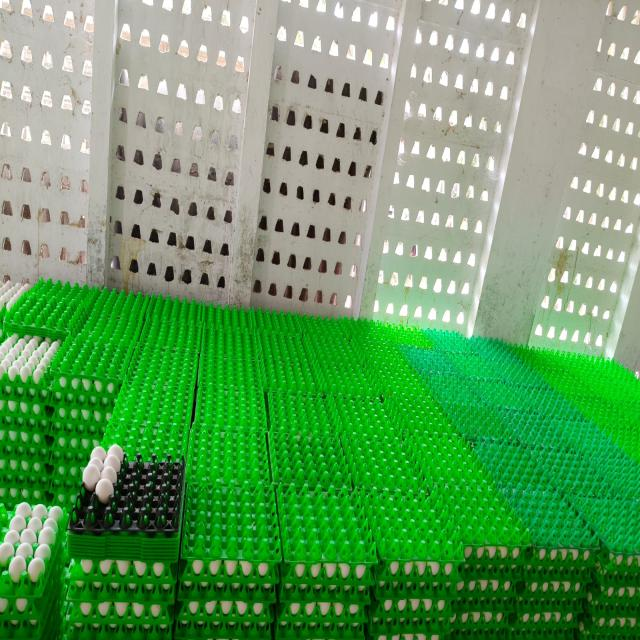egg_tray: (108, 0, 254, 300), (2, 0, 93, 282), (365, 490, 521, 626), (458, 490, 598, 628), (275, 485, 376, 637), (176, 484, 281, 626), (363, 490, 462, 637), (414, 438, 528, 564), (435, 481, 530, 628), (517, 347, 640, 459), (69, 445, 184, 561), (438, 374, 612, 448), (468, 442, 589, 548), (181, 483, 281, 594), (52, 289, 148, 404), (362, 489, 462, 597), (276, 485, 376, 588), (474, 381, 615, 451), (0, 334, 58, 503), (476, 438, 635, 499), (506, 473, 600, 576), (453, 389, 607, 449), (78, 445, 183, 531), (0, 503, 66, 637), (431, 479, 530, 566), (579, 498, 640, 636), (303, 323, 414, 396), (68, 560, 174, 636), (404, 348, 494, 437), (268, 394, 351, 489), (405, 349, 491, 437), (450, 352, 574, 412), (512, 346, 637, 404), (553, 418, 640, 500), (48, 399, 112, 507), (112, 345, 197, 426), (334, 363, 424, 438), (404, 343, 509, 405), (551, 431, 640, 503), (414, 330, 530, 382), (67, 559, 175, 614), (429, 331, 539, 384), (434, 382, 511, 457), (176, 581, 276, 637), (54, 330, 135, 399), (4, 279, 97, 339), (572, 496, 640, 577), (176, 581, 276, 636), (268, 423, 351, 489), (340, 426, 425, 490), (128, 303, 201, 377), (276, 574, 370, 630), (442, 347, 543, 399), (341, 427, 424, 490), (516, 500, 588, 572), (426, 380, 508, 442), (67, 558, 177, 604), (353, 361, 424, 432), (176, 584, 276, 634), (70, 444, 128, 530), (186, 426, 270, 485), (340, 432, 424, 491), (453, 341, 546, 394), (0, 561, 63, 639), (66, 588, 174, 633), (456, 548, 528, 615), (0, 333, 60, 413), (110, 373, 195, 429), (514, 566, 590, 628), (452, 371, 568, 411), (366, 585, 451, 639), (303, 335, 379, 395), (405, 434, 485, 489), (370, 575, 452, 628), (276, 585, 370, 630), (400, 344, 476, 399), (50, 402, 113, 466), (48, 434, 101, 510), (452, 565, 522, 622), (199, 326, 263, 388), (83, 288, 149, 348), (260, 334, 326, 393), (48, 425, 104, 494), (69, 529, 179, 563), (385, 386, 455, 439), (354, 340, 421, 395), (424, 329, 514, 369), (50, 371, 122, 421), (476, 442, 540, 498), (194, 382, 267, 430), (319, 351, 394, 397), (579, 580, 640, 636), (127, 341, 199, 388), (7, 581, 65, 639), (141, 297, 203, 351), (104, 421, 188, 459), (331, 395, 400, 441), (525, 527, 600, 569), (585, 575, 640, 632), (454, 564, 524, 608), (0, 445, 51, 505), (0, 445, 51, 504), (268, 393, 339, 435), (106, 423, 188, 459), (86, 287, 150, 332), (399, 340, 479, 375), (516, 577, 575, 624), (50, 370, 122, 408), (508, 601, 584, 637), (0, 418, 49, 473), (596, 523, 640, 583), (140, 310, 201, 352), (50, 372, 122, 407), (198, 354, 264, 392), (0, 281, 46, 334), (422, 329, 481, 370), (256, 314, 306, 361), (66, 617, 172, 639), (353, 320, 433, 349), (354, 321, 434, 350), (353, 321, 432, 350), (422, 329, 498, 359), (450, 597, 517, 631), (51, 394, 114, 430), (450, 596, 518, 629), (83, 446, 123, 502), (173, 617, 272, 639), (420, 328, 495, 357), (304, 316, 393, 340), (201, 326, 259, 361), (578, 607, 640, 639), (366, 618, 455, 639), (147, 294, 204, 326), (147, 294, 203, 326), (0, 472, 50, 507), (274, 620, 365, 639), (300, 315, 358, 343), (301, 315, 356, 344), (249, 308, 302, 336), (203, 303, 254, 332), (0, 280, 30, 323), (441, 625, 523, 639), (489, 409, 522, 436), (45, 483, 76, 509), (603, 512, 637, 535), (524, 629, 574, 639), (550, 510, 575, 530), (467, 404, 486, 424), (466, 612, 488, 628), (552, 455, 564, 477), (24, 558, 40, 574), (459, 404, 474, 421), (472, 514, 487, 528), (589, 499, 611, 508), (87, 507, 96, 528), (564, 506, 575, 523), (132, 514, 145, 527), (492, 473, 506, 485), (59, 411, 78, 419), (470, 605, 482, 617), (486, 393, 497, 406), (441, 350, 450, 365), (536, 550, 548, 561), (424, 333, 439, 341), (384, 620, 393, 633), (513, 409, 519, 428), (418, 607, 427, 619), (385, 353, 402, 358), (76, 335, 88, 342), (555, 503, 562, 514), (628, 502, 636, 510), (590, 426, 600, 432), (134, 606, 143, 612), (328, 563, 333, 573), (434, 468, 440, 476), (590, 404, 598, 410), (442, 352, 448, 360), (542, 479, 549, 485), (568, 589, 572, 599), (544, 454, 548, 464), (404, 340, 412, 345), (80, 428, 92, 431), (288, 395, 300, 398), (225, 601, 232, 606), (151, 519, 158, 524), (514, 412, 517, 423), (513, 434, 517, 442), (256, 603, 261, 609), (515, 507, 521, 512), (469, 362, 474, 368), (44, 465, 48, 472), (442, 398, 446, 405), (575, 550, 578, 559), (378, 629, 383, 634), (601, 448, 606, 453), (427, 381, 431, 387), (559, 581, 565, 585), (110, 515, 113, 522), (526, 521, 529, 528), (425, 422, 428, 429), (429, 611, 434, 615), (207, 603, 212, 607), (424, 424, 428, 429), (585, 549, 589, 554), (418, 349, 422, 354), (460, 365, 464, 370), (460, 366, 465, 370), (550, 387, 554, 392), (495, 382, 500, 386), (496, 612, 498, 621), (54, 360, 57, 366), (328, 399, 331, 405), (70, 546, 73, 552), (310, 325, 314, 329), (461, 601, 465, 605), (636, 539, 640, 543), (608, 441, 612, 445), (132, 345, 135, 350), (494, 613, 497, 618), (490, 469, 493, 474), (495, 434, 500, 437), (407, 340, 412, 343), (408, 340, 413, 343), (483, 369, 486, 374), (497, 394, 502, 397), (72, 515, 74, 522), (66, 339, 70, 342), (438, 620, 442, 623), (488, 468, 491, 472), (62, 502, 66, 505), (96, 346, 102, 348), (18, 331, 24, 333), (256, 315, 262, 317), (272, 314, 276, 317), (79, 338, 84, 340), (635, 519, 637, 524), (530, 389, 535, 391), (443, 363, 446, 366), (583, 556, 586, 559), (467, 390, 469, 394), (508, 490, 510, 494), (478, 549, 482, 551), (535, 579, 539, 581), (84, 417, 88, 419), (251, 26, 252, 33), (130, 607, 132, 610), (427, 598, 429, 601), (585, 492, 588, 494), (468, 571, 471, 573), (558, 537, 561, 539), (541, 503, 543, 506), (514, 621, 517, 623), (541, 466, 543, 469), (535, 438, 537, 441), (546, 429, 548, 432), (528, 392, 530, 395), (468, 365, 471, 367), (70, 527, 72, 530), (426, 467, 428, 470), (506, 352, 508, 355), (62, 346, 64, 349), (0, 605, 2, 608), (556, 391, 558, 394), (382, 396, 384, 399), (423, 611, 426, 613), (512, 616, 514, 619), (503, 385, 505, 388), (134, 343, 135, 348), (619, 450, 620, 455), (187, 581, 189, 583), (594, 493, 598, 494), (395, 378, 399, 379), (498, 426, 499, 430), (541, 445, 543, 447), (470, 559, 472, 561), (198, 577, 200, 579), (26, 578, 30, 579), (612, 447, 614, 449), (512, 619, 514, 621), (542, 501, 544, 503), (468, 360, 471, 361), (408, 342, 411, 343), (472, 620, 473, 623), (496, 435, 499, 436), (276, 314, 277, 317), (551, 460, 552, 463), (71, 534, 72, 537), (590, 521, 591, 524), (180, 585, 181, 587), (584, 443, 586, 444), (487, 526, 489, 527), (591, 484, 593, 485), (485, 627, 487, 628), (629, 469, 631, 470), (542, 436, 544, 437), (576, 526, 577, 528), (540, 461, 542, 462), (484, 355, 486, 356), (178, 516, 179, 518), (498, 427, 499, 429), (497, 620, 499, 621), (111, 630, 112, 632), (102, 555, 104, 556), (591, 524, 593, 525), (592, 506, 593, 508), (376, 638, 377, 639), (442, 609, 443, 610), (3, 145, 4, 146), (216, 602, 217, 603), (596, 592, 597, 593), (100, 431, 101, 432), (7, 625, 8, 626), (365, 580, 366, 581), (487, 620, 488, 621), (406, 337, 408, 337), (415, 636, 418, 636), (483, 554, 484, 554), (552, 445, 552, 445), (608, 625, 608, 628), (632, 468, 632, 468), (300, 636, 304, 636), (141, 370, 141, 370), (188, 365, 190, 365), (183, 361, 184, 361), (456, 610, 457, 610), (463, 608, 463, 610), (525, 450, 528, 450), (526, 627, 530, 627), (450, 406, 450, 406), (503, 382, 503, 384), (148, 523, 148, 523), (85, 514, 86, 514), (150, 527, 150, 528), (483, 374, 484, 374), (136, 558, 137, 558), (482, 339, 484, 339), (68, 339, 68, 339), (636, 516, 636, 517), (585, 430, 586, 430), (476, 374, 479, 374), (560, 396, 560, 397), (572, 630, 572, 630), (590, 412, 590, 412), (12, 331, 12, 332), (481, 401, 482, 401), (172, 594, 172, 594)
